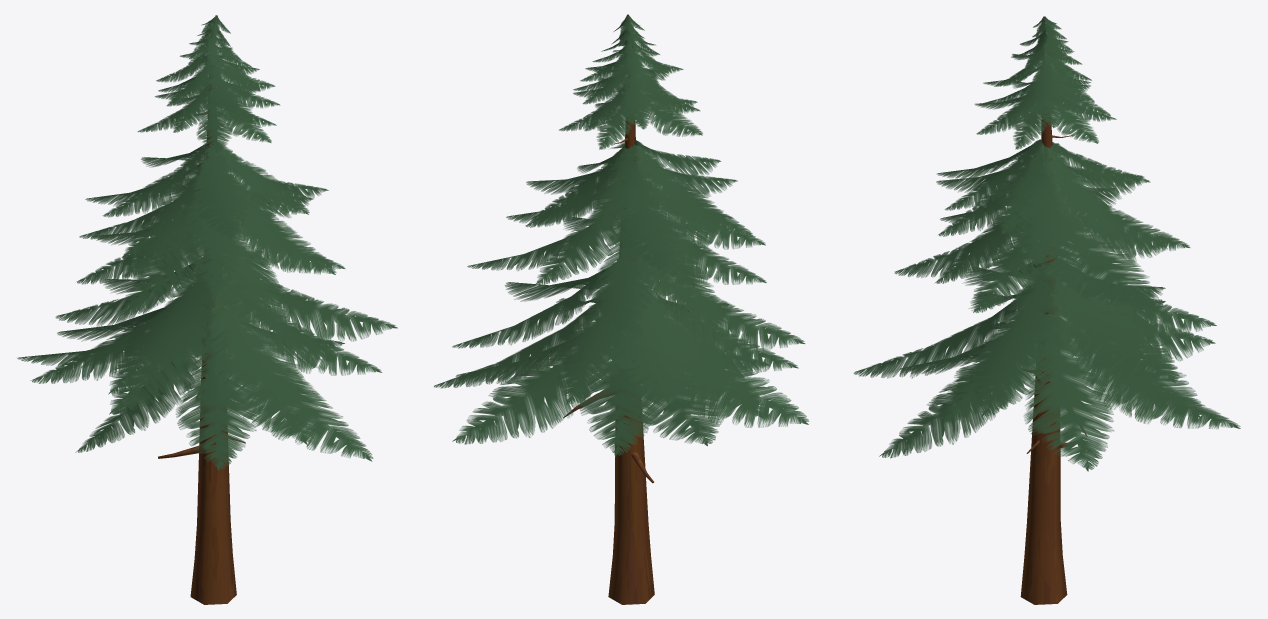
File: tree_pine_04.glb
3 views of the same model, side by side, from view 1: azimuth 30°, elevation 25°; view 2: azimuth 150°, elevation 25°; view 3: azimuth 270°, elevation 25° (orthographic).
Parts seen in each view (by area): view 1: PineTree4; view 2: PineTree4; view 3: PineTree4.
Boxes of the visible parts, x1=… form: PineTree4: x1=17, y1=15, x2=397, y2=604; PineTree4: x1=434, y1=14, x2=808, y2=604; PineTree4: x1=854, y1=16, x2=1240, y2=604.
Size of the model in its own units: 7.46 by 12.62 by 7.91.
Materials: 2 (2 with a texture image).
